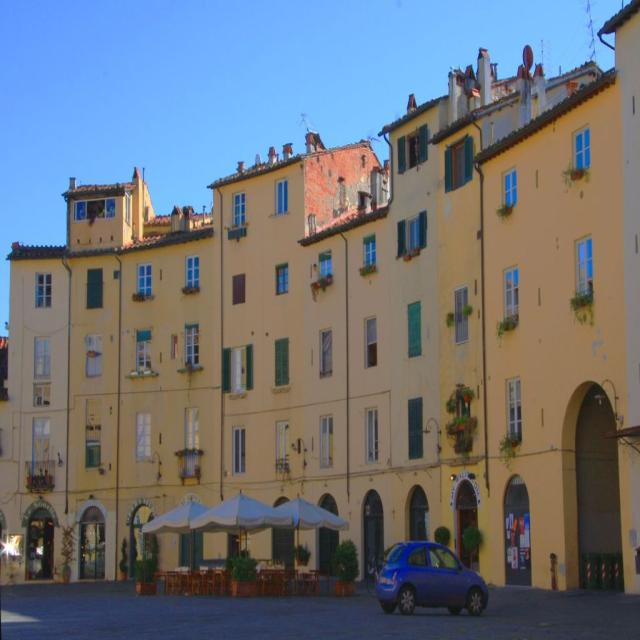car: (376, 533, 487, 612)
